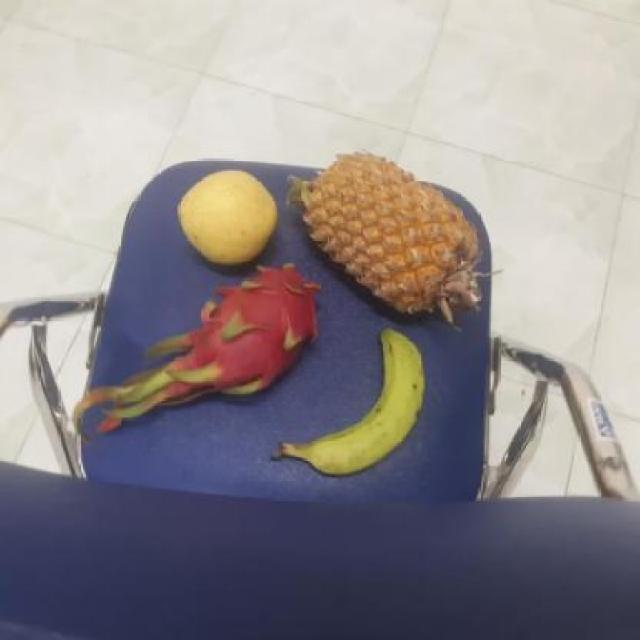banana: (268, 327, 425, 476)
dragon fruit: (186, 261, 317, 399)
pear: (171, 170, 280, 267)
pineapple: (285, 149, 485, 326)
